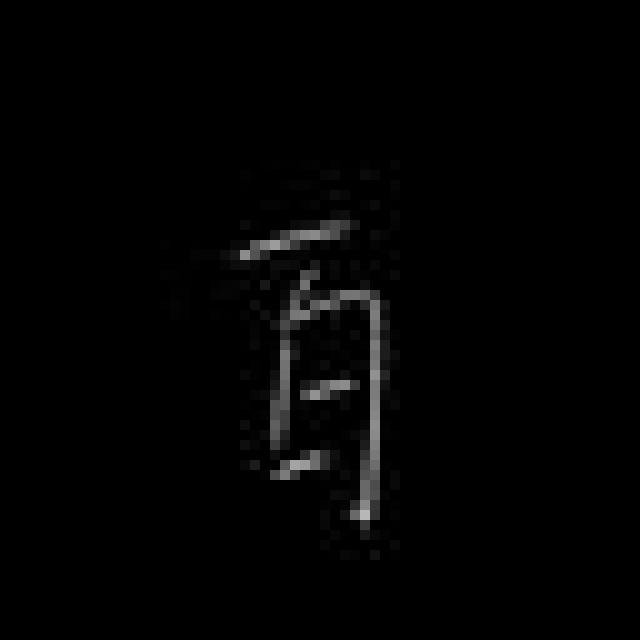100 -a hundred-: (206, 206, 395, 543)
